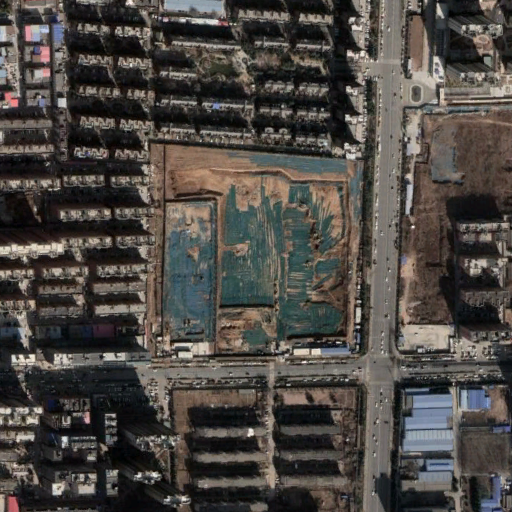cw: (149, 141, 361, 357)
